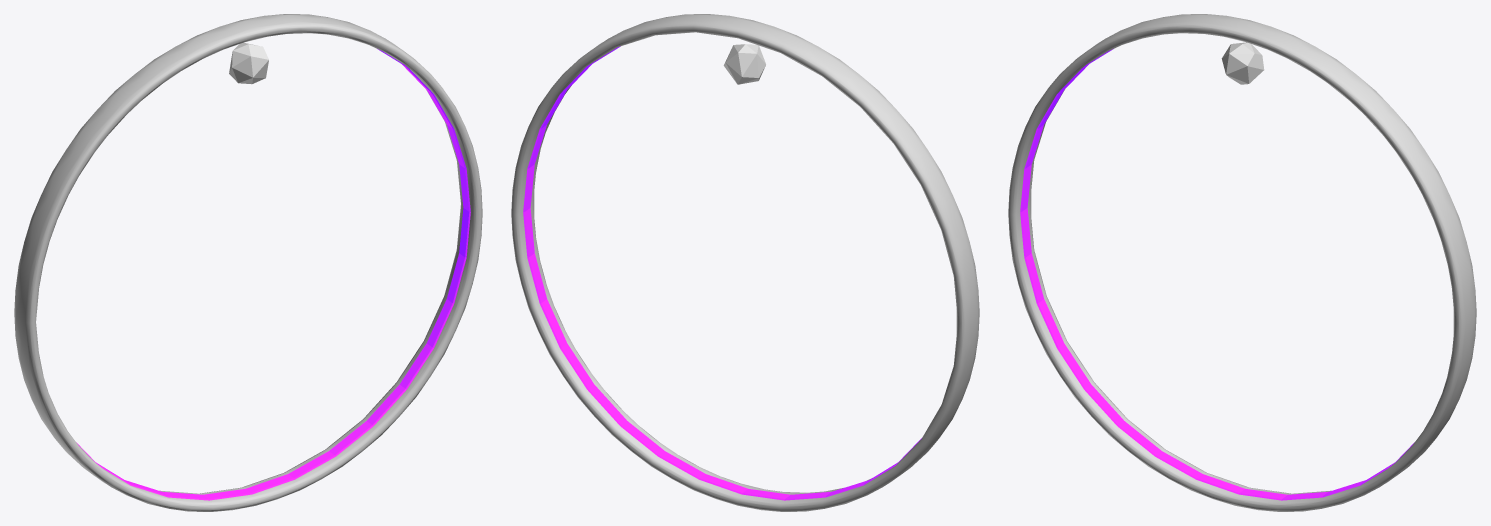
File: ring_lg.gltf
The picture shows the model from 3 angles, left to right: view 1: azimuth 30°, elevation 25°; view 2: azimuth 150°, elevation 25°; view 3: azimuth 330°, elevation 25°; orthographic projection.
Parts seen in each view (by area): view 1: outer, inner, Obj_1; view 2: outer, inner, Obj_1; view 3: outer, inner, Obj_1.
Boxes of the visible parts, x1=… form: outer: x1=14, y1=14, x2=482, y2=511; inner: x1=76, y1=49, x2=470, y2=500; Obj_1: x1=229, y1=42, x2=268, y2=84; outer: x1=511, y1=14, x2=979, y2=511; inner: x1=523, y1=46, x2=921, y2=500; Obj_1: x1=723, y1=44, x2=765, y2=84; outer: x1=1008, y1=14, x2=1476, y2=511; inner: x1=1020, y1=49, x2=1414, y2=500; Obj_1: x1=1221, y1=42, x2=1264, y2=84.
Size of the model in its own units: 21.91 by 21.91 by 1.74.
